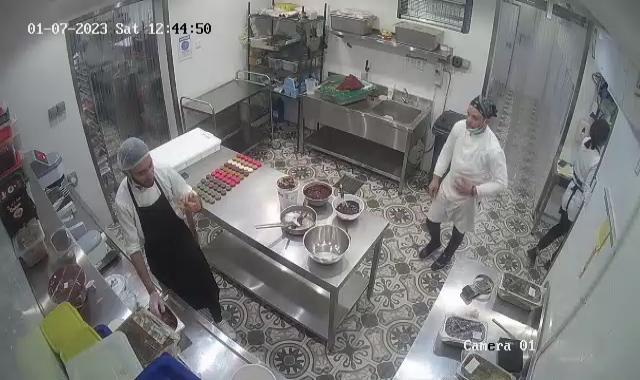hairnet: (118, 136, 152, 175)
no_hairnet: (467, 92, 490, 136), (588, 116, 608, 144)
